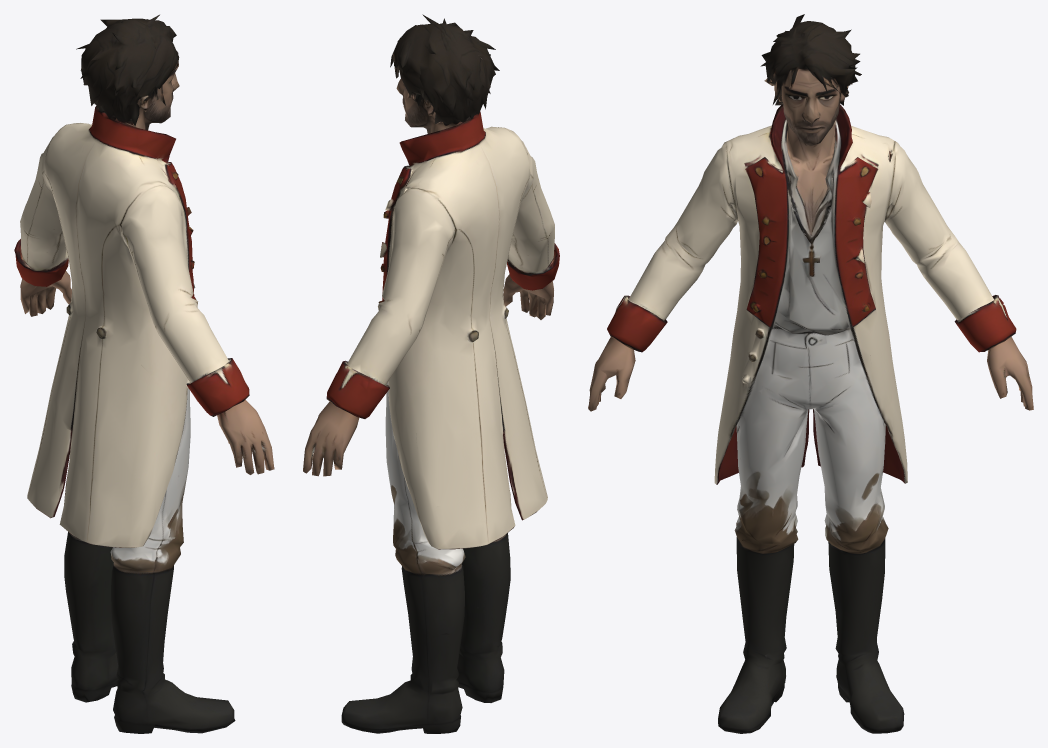
Rendered from 747cf850-c2d0-4da7-9526-3cfde9181d55_model_url.glb.
3 views of the same model, side by side, from view 1: azimuth 30°, elevation 25°; view 2: azimuth 150°, elevation 25°; view 3: azimuth 270°, elevation 25° (orthographic).
Parts seen in each view (by area): view 1: tripo_node_747cf850-c2d0-4da7-9526-3cfde9181d55; view 2: tripo_node_747cf850-c2d0-4da7-9526-3cfde9181d55; view 3: tripo_node_747cf850-c2d0-4da7-9526-3cfde9181d55.
Boxes of the visible parts, x1,y1,x2,y2 form: tripo_node_747cf850-c2d0-4da7-9526-3cfde9181d55: (14, 14, 274, 733); tripo_node_747cf850-c2d0-4da7-9526-3cfde9181d55: (303, 14, 559, 733); tripo_node_747cf850-c2d0-4da7-9526-3cfde9181d55: (588, 14, 1033, 733).
Size of the model in its own units: 0.214 by 1 by 0.5902.
1 material, 1 textured.
